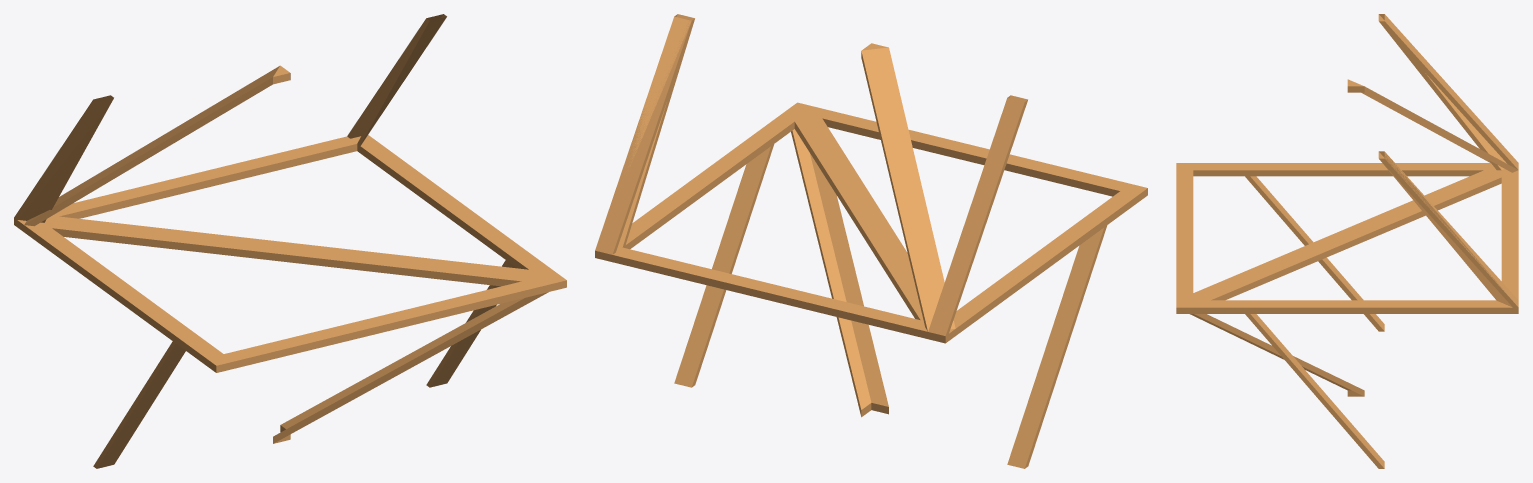
The model's file is Path.fbx.
The picture shows the model from 3 angles, left to right: view 1: azimuth 30°, elevation 25°; view 2: azimuth 150°, elevation 25°; view 3: azimuth 270°, elevation 25°; orthographic projection. The views are drawn at different scales.
Parts seen in each view (by area): view 1: Path_DoubleCorner, Path_Full, Path_AlsoUpCorner, Path_InCorner, Path_DoubleDown, Path_DoubleUp, Path_AlsoDownCorner, Path_Straight, Path_Down, Path_UpCorner, Path_Up, Path_AlsoUp (+2 smaller); view 2: Path_Full, Path_DoubleUp, Path_DoubleDown, Path_DoubleCorner, Path_Down, Path_Up, Path_AlsoDown, Path_InCorner, Path_UpFull, Path_AlsoUp, Path_Straight, Path_AlsoUpCorner (+4 smaller); view 3: Path_DoubleCorner, Path_Full, Path_Straight, Path_UpCorner, Path_AlsoDown, Path_AlsoDownCorner, Path_UpFull, Path_Up, Path_AlsoUp, Path_Down, Path_DownFull, Path_DoubleUp (+3 smaller).
Part boxes in pixels (x1,y1,x2,y2): Path_DoubleCorner: [20, 216, 566, 286]; Path_Full: [27, 135, 528, 349]; Path_AlsoUpCorner: [59, 14, 443, 218]; Path_InCorner: [14, 218, 566, 372]; Path_DoubleDown: [273, 292, 548, 443]; Path_DoubleUp: [24, 65, 290, 226]; Path_AlsoDownCorner: [208, 253, 552, 386]; Path_Straight: [14, 218, 233, 362]; Path_Down: [93, 332, 229, 468]; Path_UpCorner: [18, 96, 373, 222]; Path_Up: [14, 95, 113, 223]; Path_AlsoUp: [347, 15, 445, 138]; Path_Full: [595, 104, 1116, 342]; Path_DoubleUp: [861, 43, 955, 331]; Path_DoubleDown: [791, 129, 888, 417]; Path_DoubleCorner: [788, 103, 952, 339]; Path_Down: [1007, 184, 1146, 468]; Path_Up: [928, 95, 1027, 340]; Path_AlsoDown: [674, 105, 809, 387]; Path_InCorner: [788, 103, 1143, 342]; Path_UpFull: [616, 14, 926, 330]; Path_AlsoUp: [595, 14, 694, 254]; Path_Straight: [945, 185, 1147, 342]; Path_AlsoUpCorner: [595, 19, 945, 343]; Path_DoubleCorner: [1176, 170, 1511, 313]; Path_Full: [1191, 164, 1518, 313]; Path_Straight: [1178, 163, 1504, 176]; Path_UpCorner: [1379, 22, 1518, 307]; Path_AlsoDown: [1176, 300, 1384, 468]; Path_AlsoDownCorner: [1176, 163, 1243, 313]; Path_UpFull: [1381, 152, 1518, 310]; Path_Up: [1378, 14, 1518, 169]; Path_AlsoUp: [1378, 151, 1518, 313]; Path_Down: [1184, 166, 1384, 331]; Path_DownFull: [1177, 203, 1383, 467]; Path_DoubleUp: [1347, 79, 1518, 172].
Size of the model in its own units: 200 by 200 by 200.
